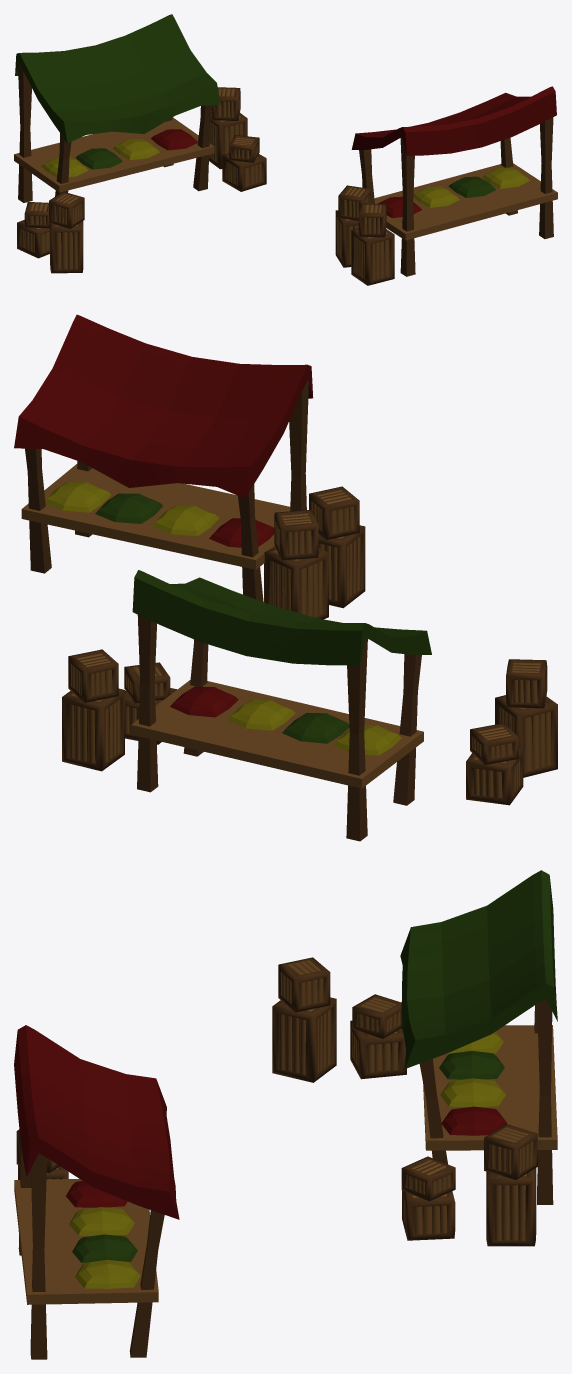
3 renders of one model, top to bottom at view 1: azimuth 30°, elevation 25°; view 2: azimuth 150°, elevation 25°; view 3: azimuth 270°, elevation 25°, orthographic. The views are drawn at different scales.
Parts seen in each view (by area): view 1: Market_FirstAge_Level1.001_Cube.008; view 2: Market_FirstAge_Level1.001_Cube.008; view 3: Market_FirstAge_Level1.001_Cube.008.
Boxes of the visible parts, box(x1,y1,x2,y2) form: Market_FirstAge_Level1.001_Cube.008: box(14, 14, 557, 285); Market_FirstAge_Level1.001_Cube.008: box(14, 314, 557, 841); Market_FirstAge_Level1.001_Cube.008: box(14, 870, 557, 1359).
Bounding box in the file's own units: 486 × 165 × 365.
